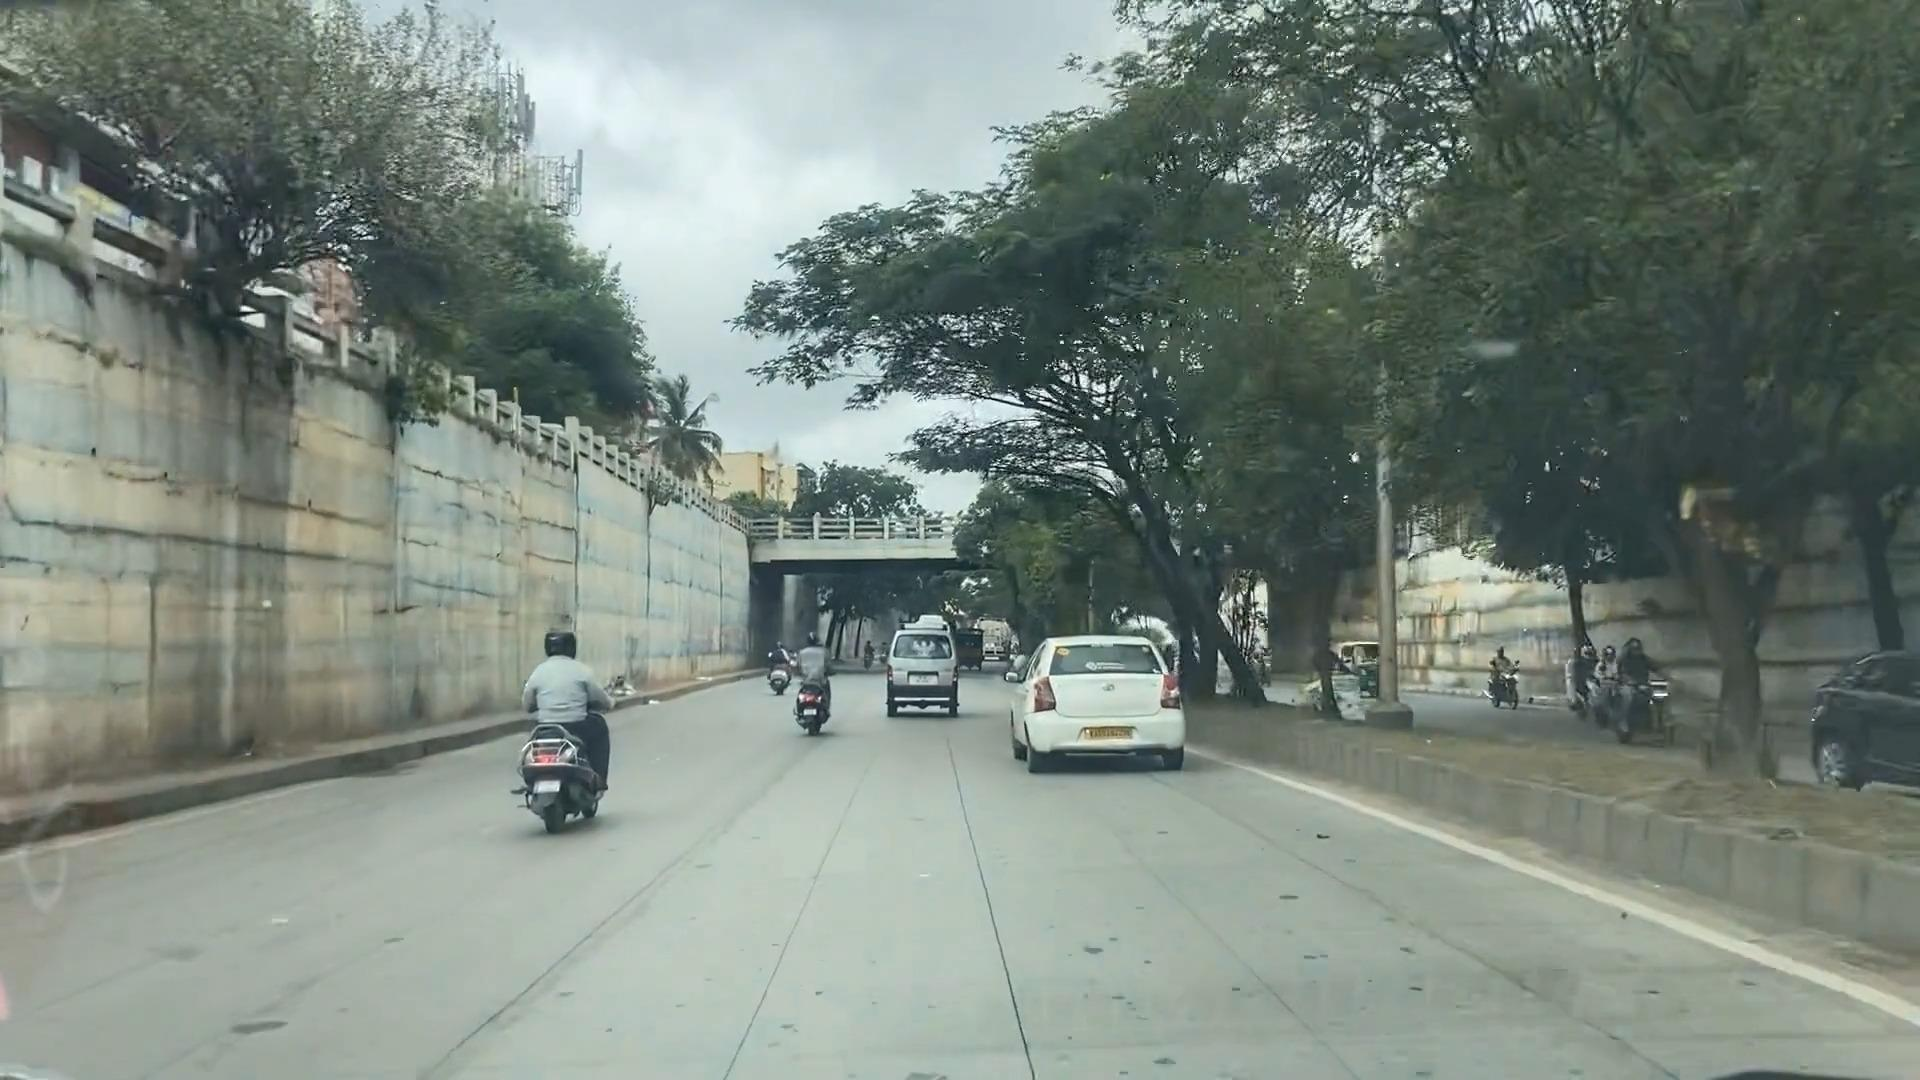LMV: (1007, 611, 1205, 786), (498, 603, 612, 824)
